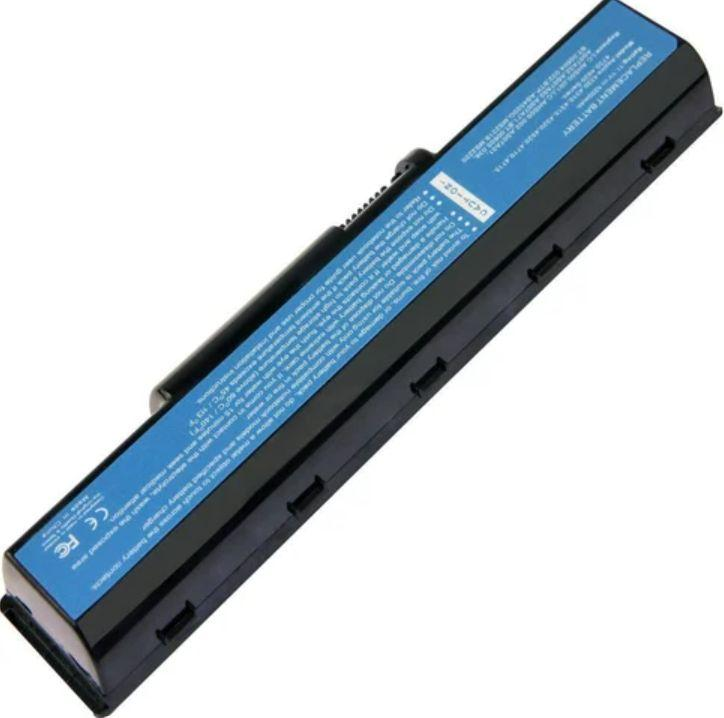battery: (0, 0, 720, 718)
